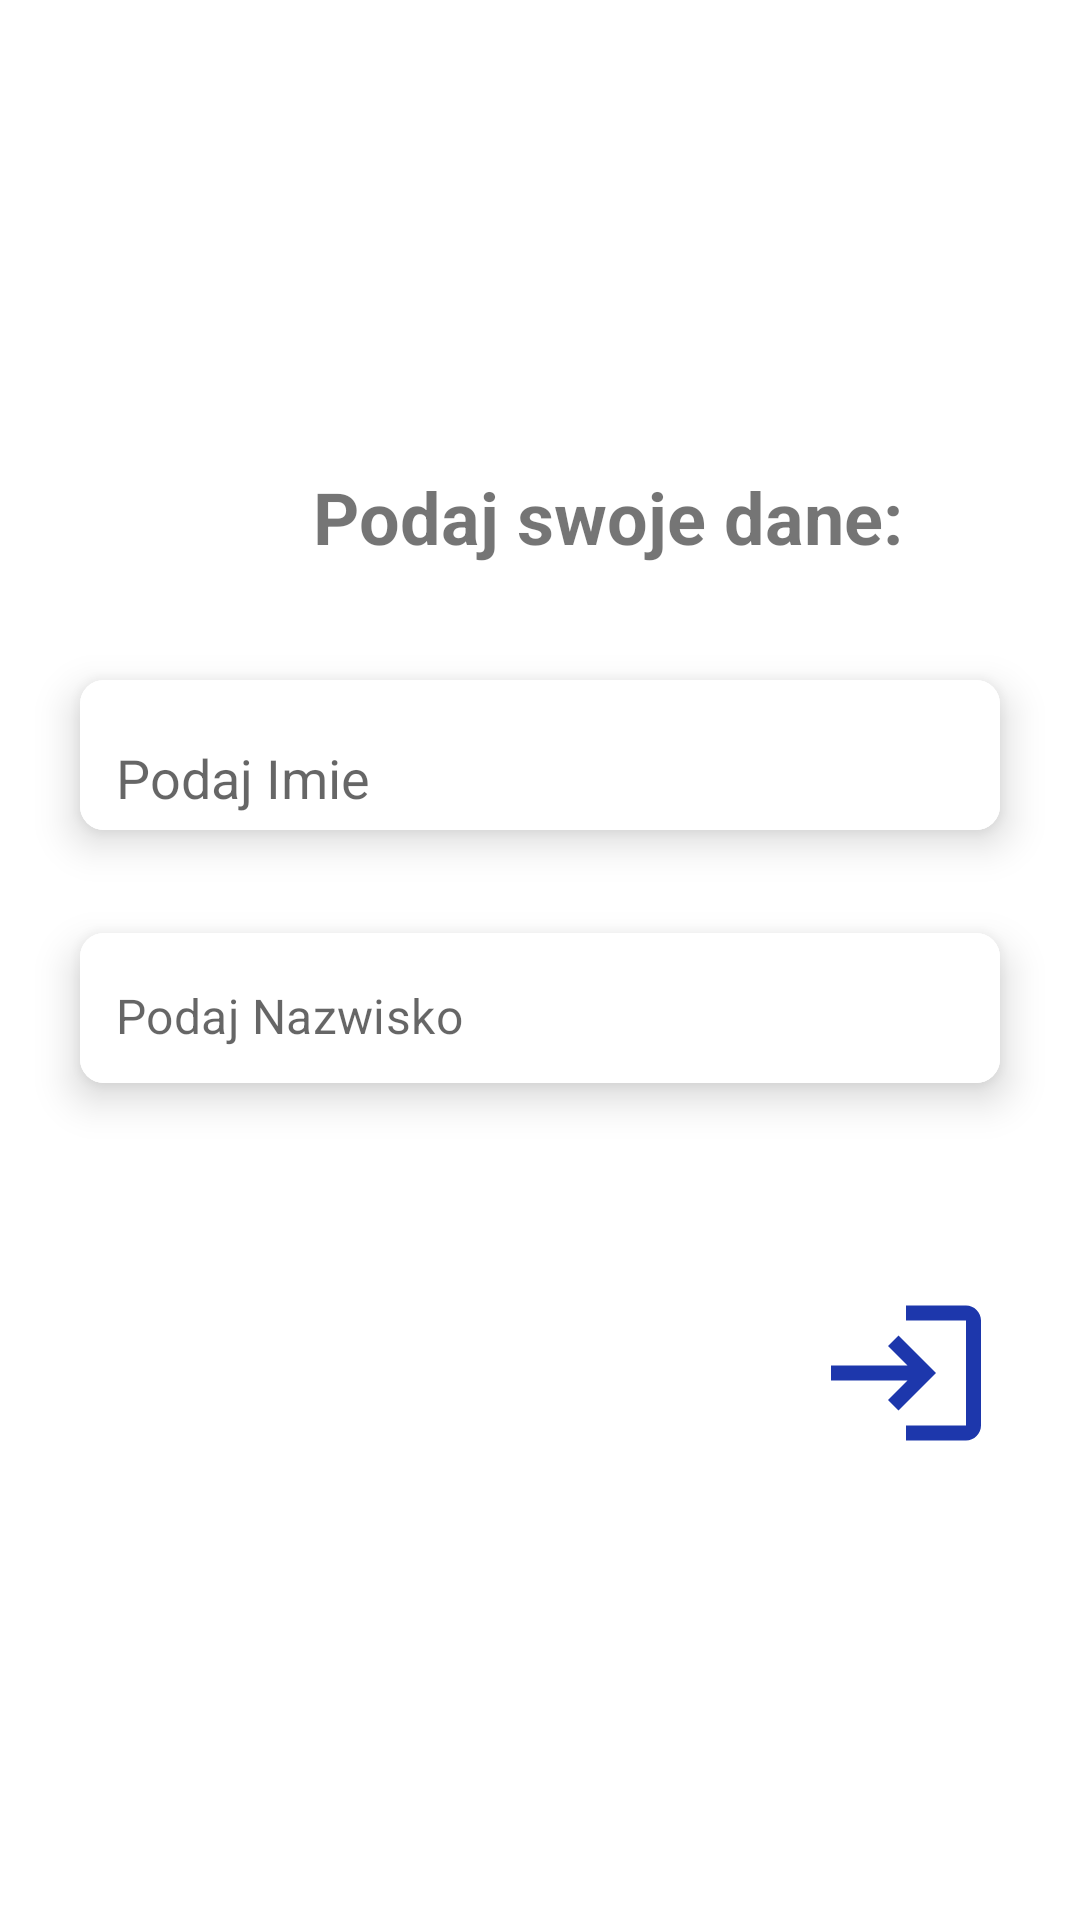

Icons on this 1080×1920 Android screen, each with its box as [left=x1, top=y1, right=x2, bottom=y2]:
login arrow: [left=831, top=1305, right=981, bottom=1441]
